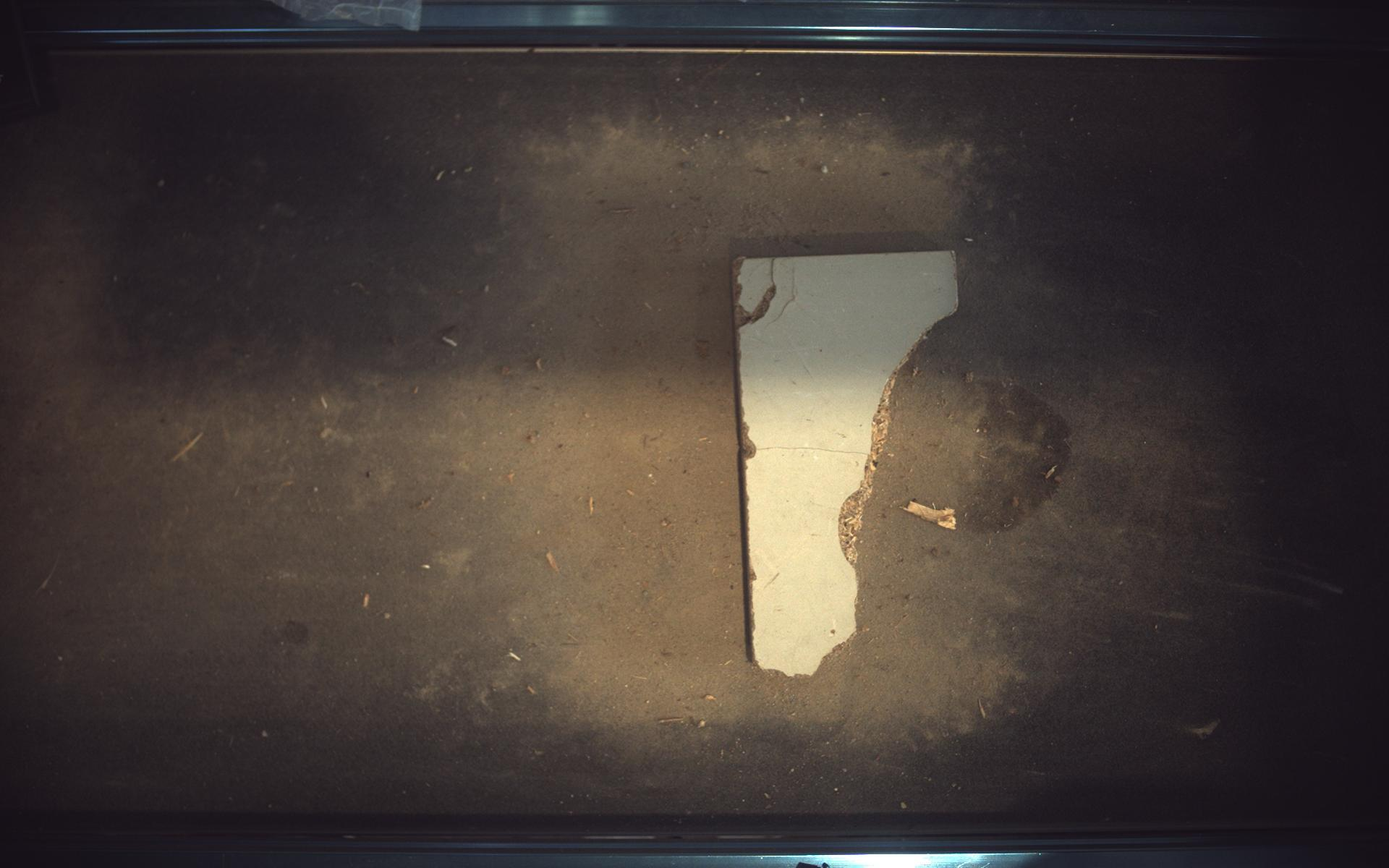wood: (735, 251, 959, 676)
